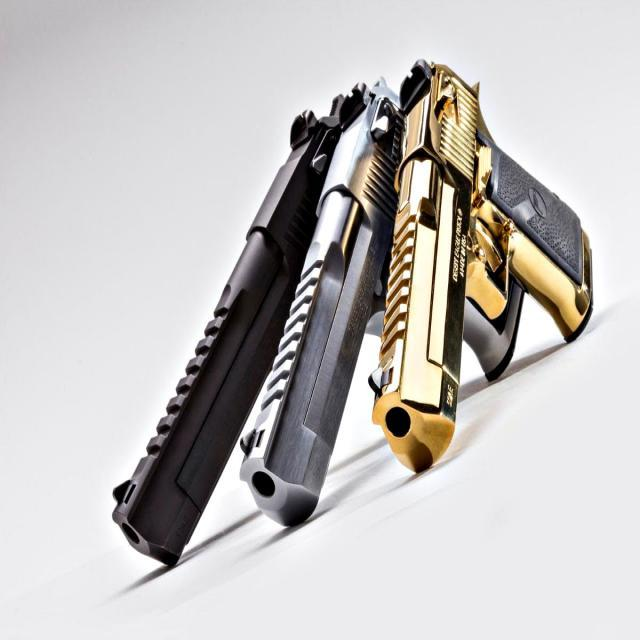handgun: (112, 36, 338, 578), (369, 46, 594, 561), (244, 48, 410, 542)
